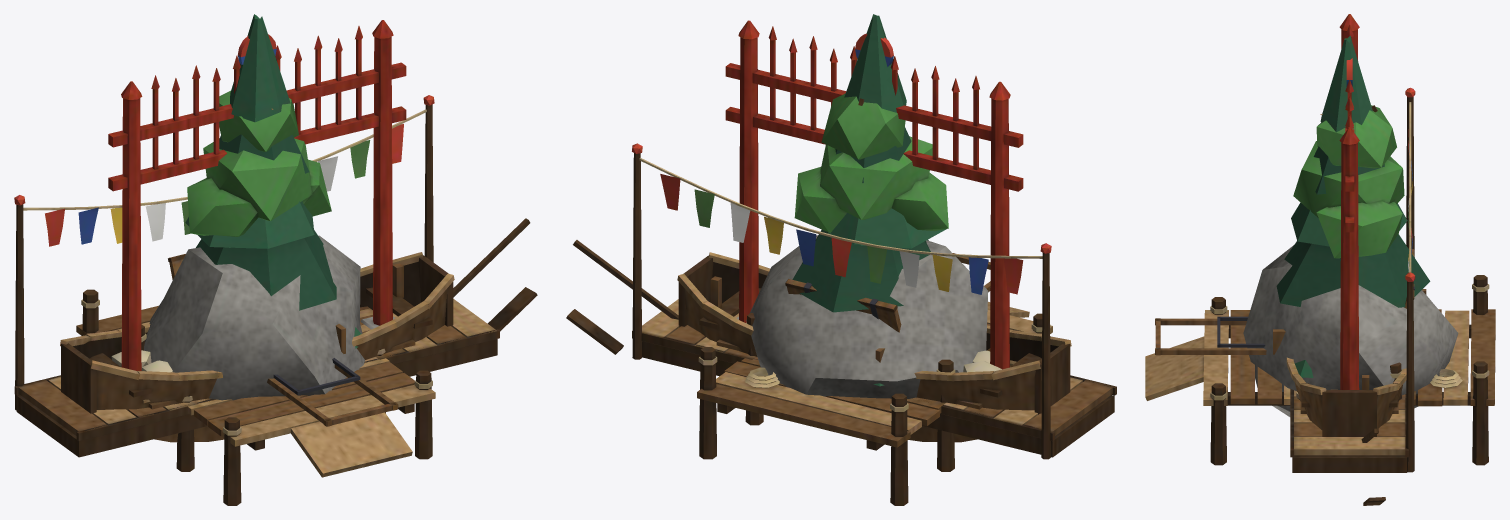
The model's file is fprops.glb.
3 renders of one model, left to right at view 1: azimuth 30°, elevation 25°; view 2: azimuth 150°, elevation 25°; view 3: azimuth 270°, elevation 25°, orthographic. The views are drawn at different scales.
Visible parts, largest first — view 1: rock_big, hongsal, stage, dock, ferry, pine_b, tree_b, cart, handcart; view 2: rock_big, stage, hongsal, ferry, dock, tree_b, pine_b, gwe; view 3: dock, rock_big, pine_b, tree_b, stage, hongsal, ferry, cart, handcart.
Part boxes in pixels (<box>): rock_big: <box>144,235,365,400</box>; hongsal: <box>108,20,406,370</box>; stage: <box>14,95,499,457</box>; dock: <box>76,289,435,505</box>; ferry: <box>60,218,537,442</box>; pine_b: <box>185,14,361,348</box>; tree_b: <box>187,90,331,236</box>; cart: <box>267,324,398,426</box>; handcart: <box>273,358,360,395</box>; rock_big: <box>746,235,988,398</box>; stage: <box>632,143,1116,459</box>; hongsal: <box>725,20,1023,369</box>; ferry: <box>566,240,1071,442</box>; dock: <box>697,301,1052,505</box>; tree_b: <box>794,93,948,232</box>; pine_b: <box>792,14,946,386</box>; gwe: <box>785,279,901,332</box>; dock: <box>1145,275,1495,465</box>; rock_big: <box>1243,245,1458,416</box>; pine_b: <box>1276,36,1430,377</box>; tree_b: <box>1293,105,1404,258</box>; stage: <box>1290,87,1415,472</box>; hongsal: <box>1339,14,1359,389</box>; ferry: <box>1286,357,1406,505</box>; cart: <box>1155,289,1426,355</box>; handcart: <box>1217,316,1265,347</box>.
Bounding box in the file's own units: 8.39 × 6.65 × 5.49.
1 material, 1 textured.
